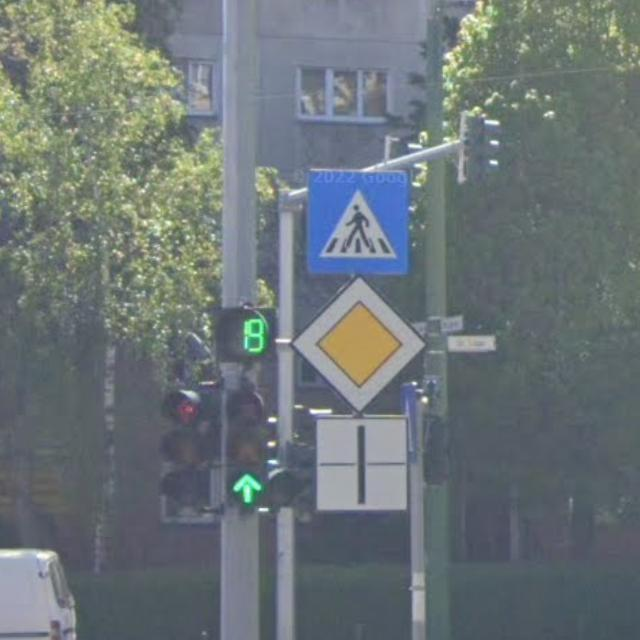info_crosswalk: (306, 165, 410, 275)
